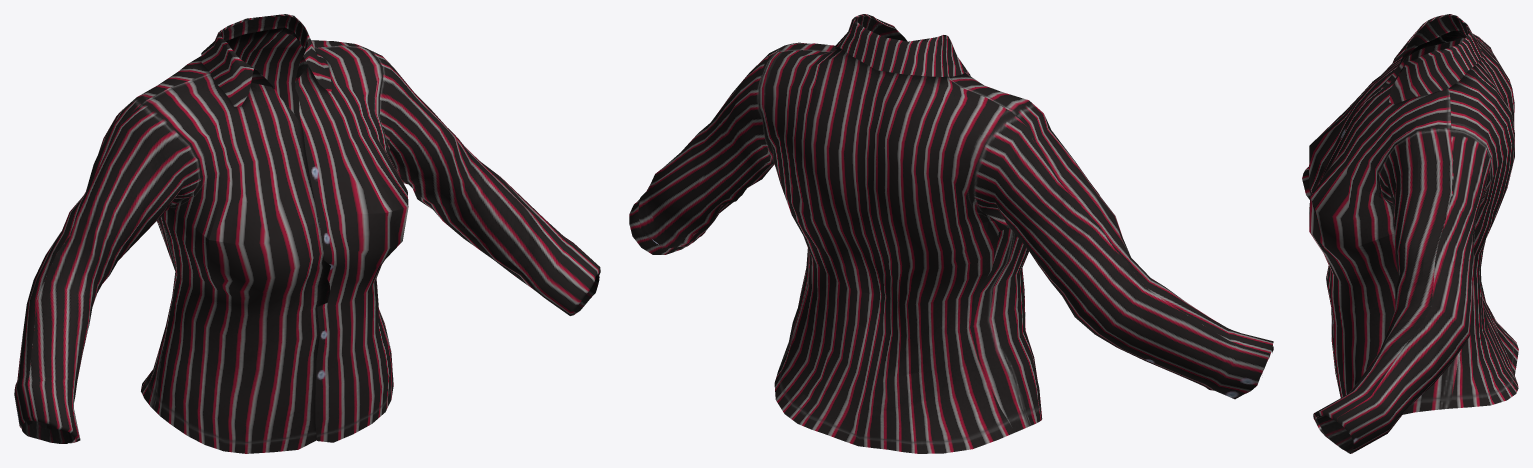
File: LXL_SMF.dae
The picture shows the model from 3 angles, left to right: view 1: azimuth 30°, elevation 25°; view 2: azimuth 150°, elevation 25°; view 3: azimuth 270°, elevation 25°; orthographic projection. The views are drawn at different scales.
Parts seen in each view (by area): view 1: shirt01Mesh; view 2: shirt01Mesh; view 3: shirt01Mesh.
Boxes of the visible parts, left/top/right/bottom form: shirt01Mesh: left=14, top=14, right=600, bottom=453; shirt01Mesh: left=629, top=14, right=1273, bottom=453; shirt01Mesh: left=1302, top=14, right=1518, bottom=453.
Bounding box in the file's own units: 8.62 × 5.45 × 2.94.
